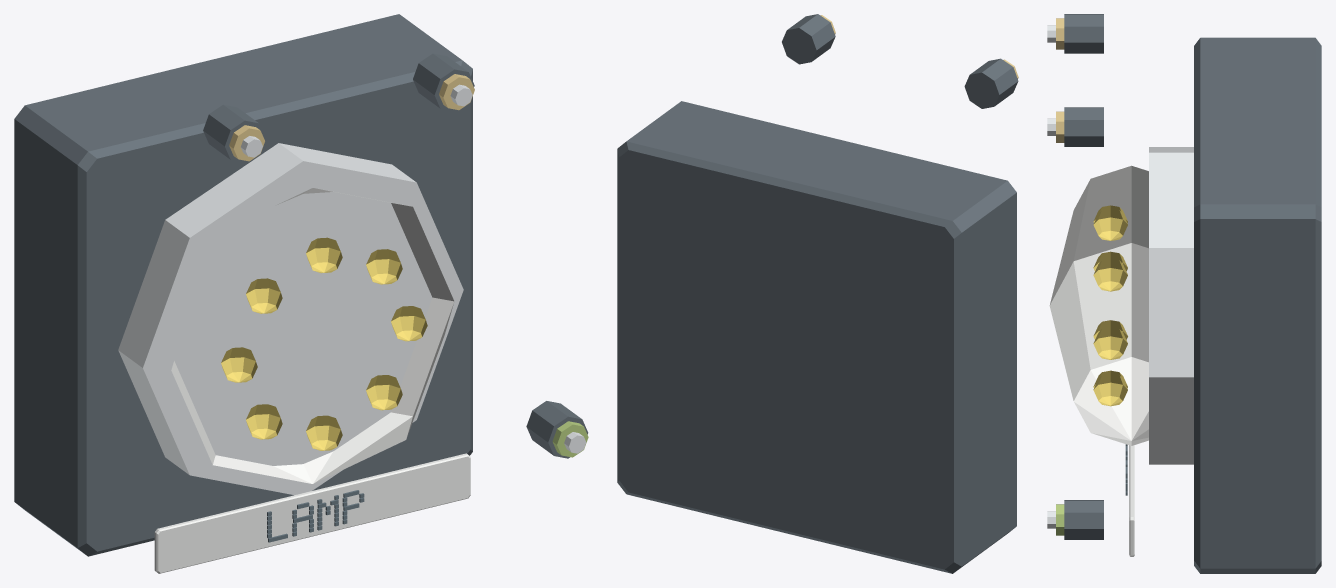
The model's file is ledLamp.glb.
3 renders of one model, left to right at view 1: azimuth 30°, elevation 25°; view 2: azimuth 150°, elevation 25°; view 3: azimuth 270°, elevation 25°, orthographic. The views are drawn at different scales.
Parts seen in each view (by area): view 1: ledLamp-board; view 2: ledLamp-board; view 3: ledLamp-board.
Part boxes in pixels (box(x1,y1,x2,y2)): ledLamp-board: box(14, 14, 588, 573); ledLamp-board: box(617, 14, 1018, 573); ledLamp-board: box(1047, 14, 1321, 573).
Size of the model in its own units: 2.08 by 2.14 by 1.24.
